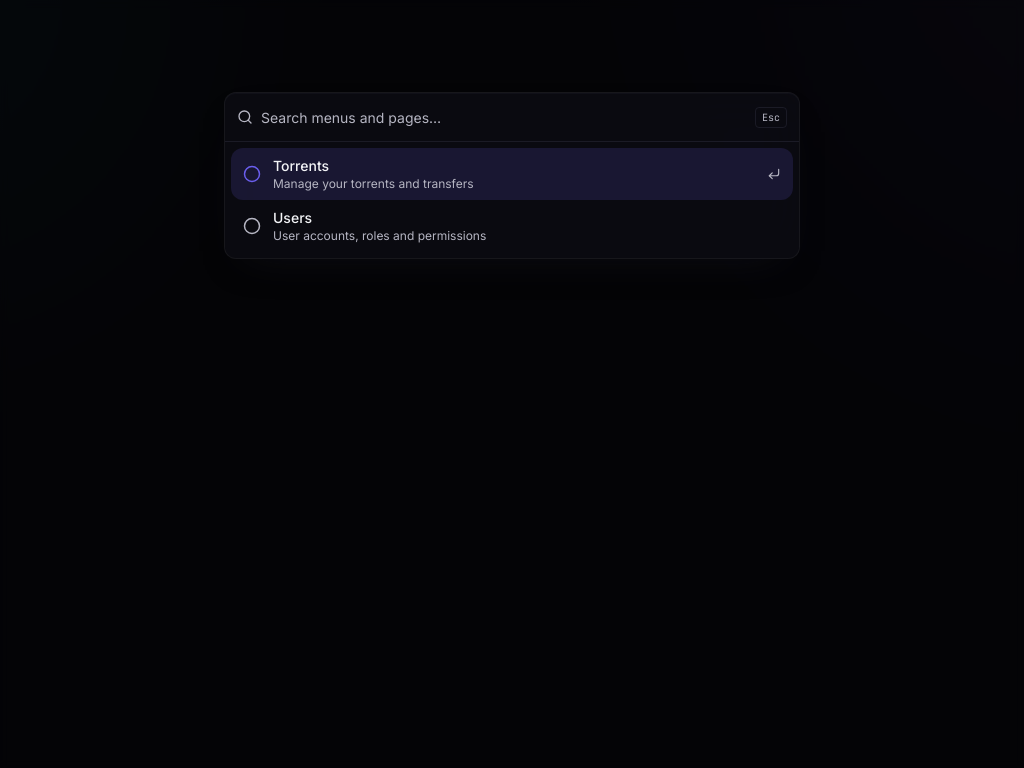
Scenario: CommandPalette › filters results by the query (label/group/description)
Type "user" into the field at x=504, y=117, box [261,93,747,141]
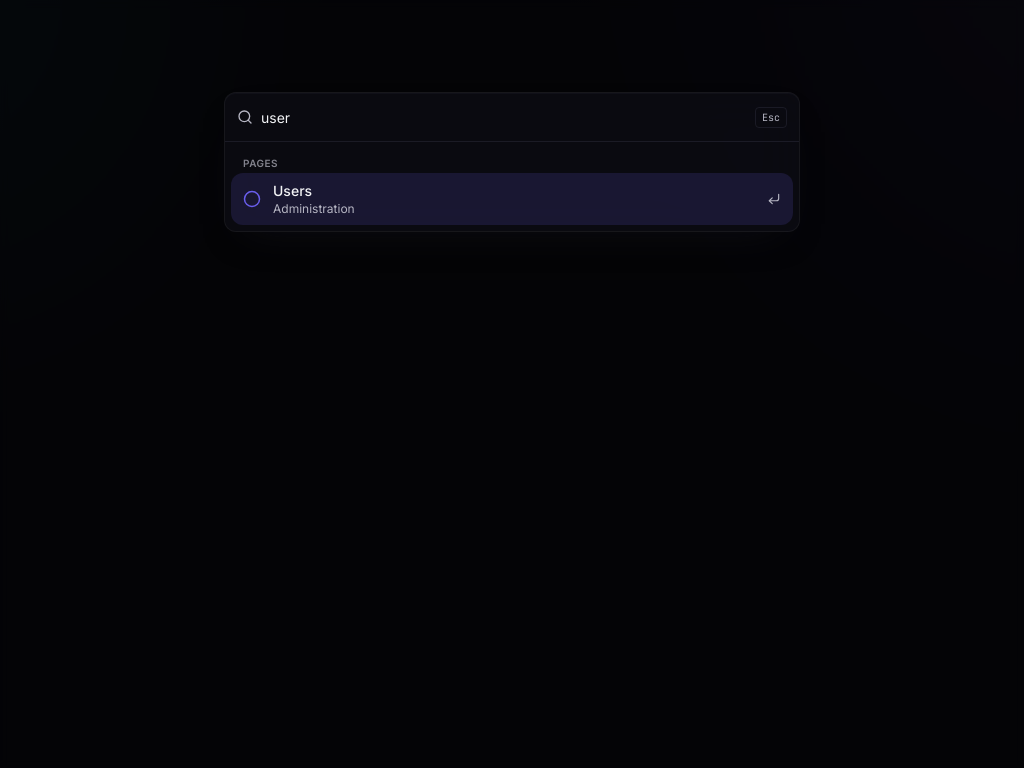
Check: the text "Users" is shown, box [273,182,312,199]
Check: the button "Torrents" is gone
